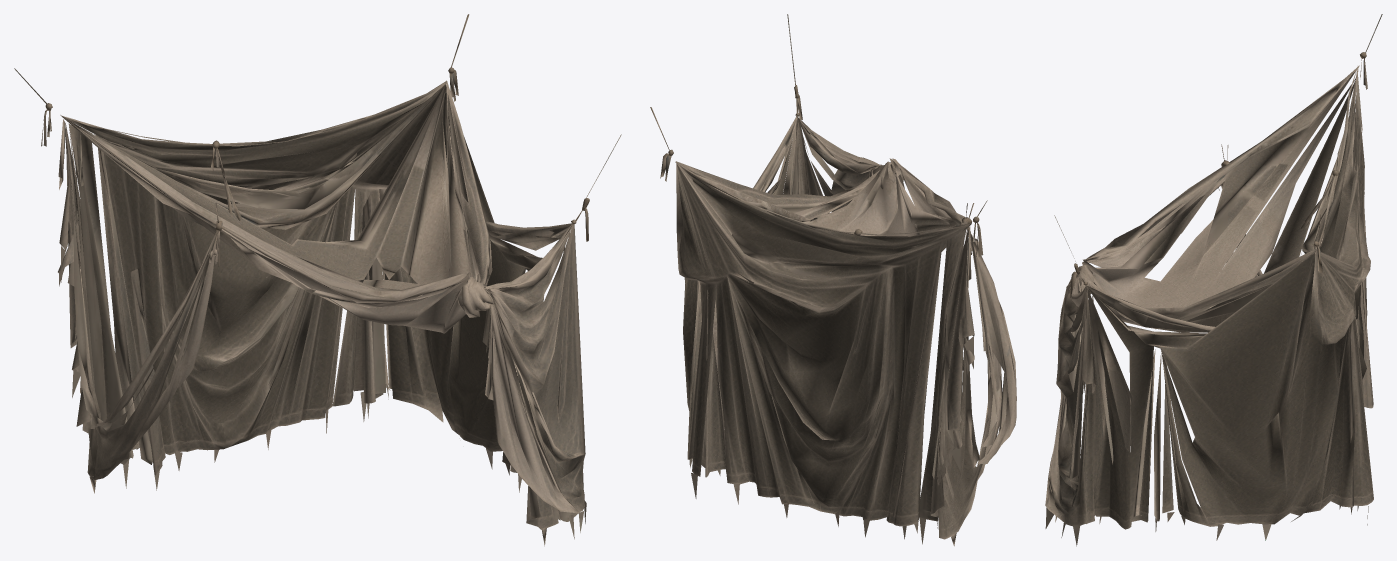
The model's file is Meshy_AI_Tattered_Veil_of_Shadows_20261029_texture.fbx.
3 renders of one model, left to right at view 1: azimuth 30°, elevation 25°; view 2: azimuth 150°, elevation 25°; view 3: azimuth 270°, elevation 25°, orthographic. The views are drawn at different scales.
Visible parts, largest first — view 1: Mesh_0; view 2: Mesh_0; view 3: Mesh_0.
Part boxes in pixels (left/top/right/bottom): Mesh_0: left=14, top=14, right=621, bottom=546; Mesh_0: left=650, top=14, right=1016, bottom=546; Mesh_0: left=1045, top=14, right=1382, bottom=546.
Bounding box in the file's own units: 95.21 × 94.14 × 76.71.
Materials: 1 (1 with a texture image).
